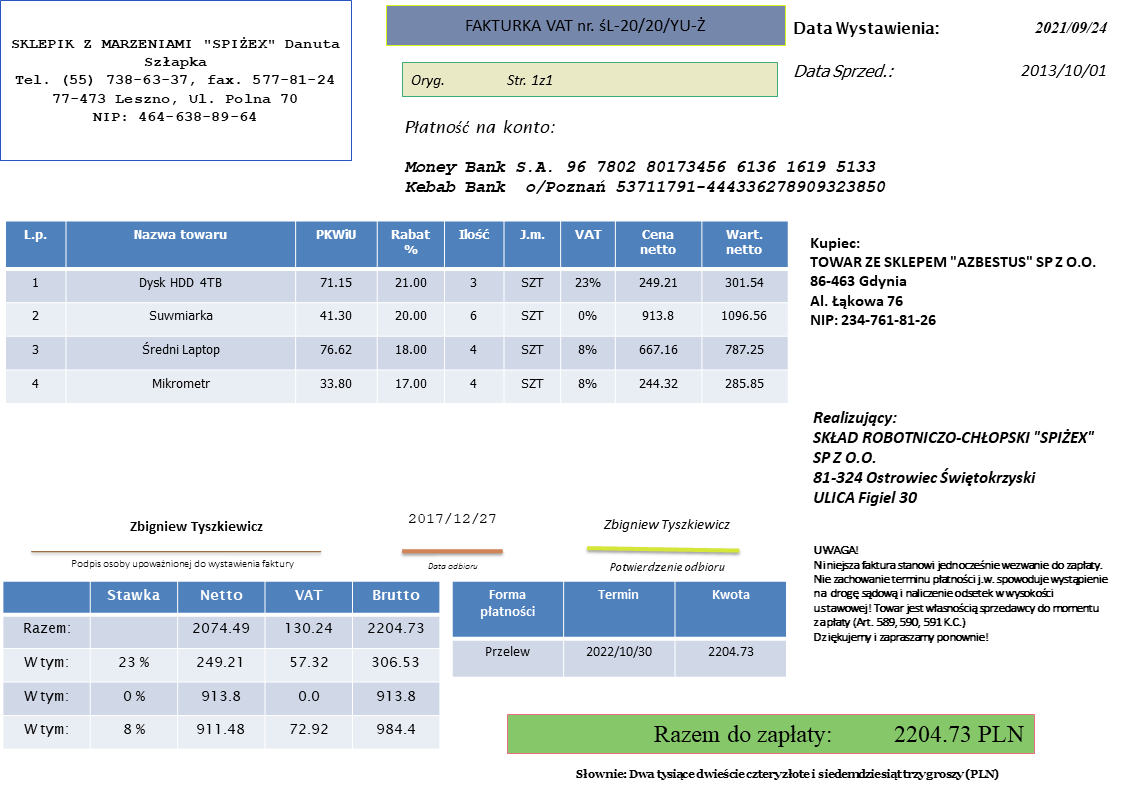Table: (4, 219, 789, 404), (1, 580, 440, 752), (450, 580, 788, 679)
TextBox: (811, 542, 1112, 646), (7, 34, 342, 126), (811, 407, 1098, 508), (808, 234, 1099, 329), (402, 156, 888, 196), (651, 721, 1027, 749), (573, 765, 1001, 785), (461, 14, 709, 36), (67, 556, 296, 572), (790, 17, 940, 39), (403, 117, 556, 137), (126, 517, 266, 538), (600, 514, 732, 536), (409, 70, 554, 90), (792, 60, 896, 84), (606, 559, 726, 575), (406, 508, 498, 528), (1019, 61, 1108, 80), (1032, 19, 1107, 37), (426, 559, 479, 572)
